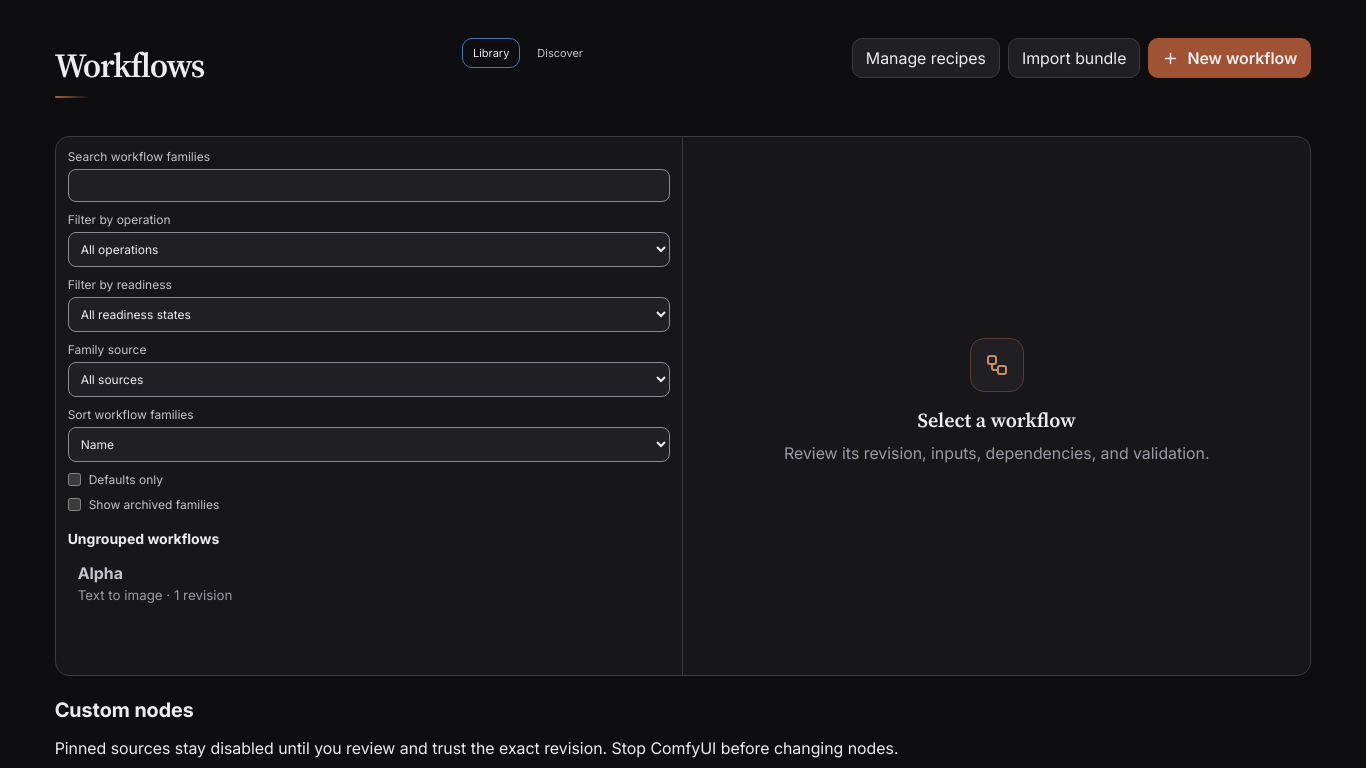
opening a workflow in ComfyUI › does not offer recovery controls while the original consume is running
Click the text "Alpha".
click(100, 573)  # box top-left (78, 563), bottom-right (123, 583)
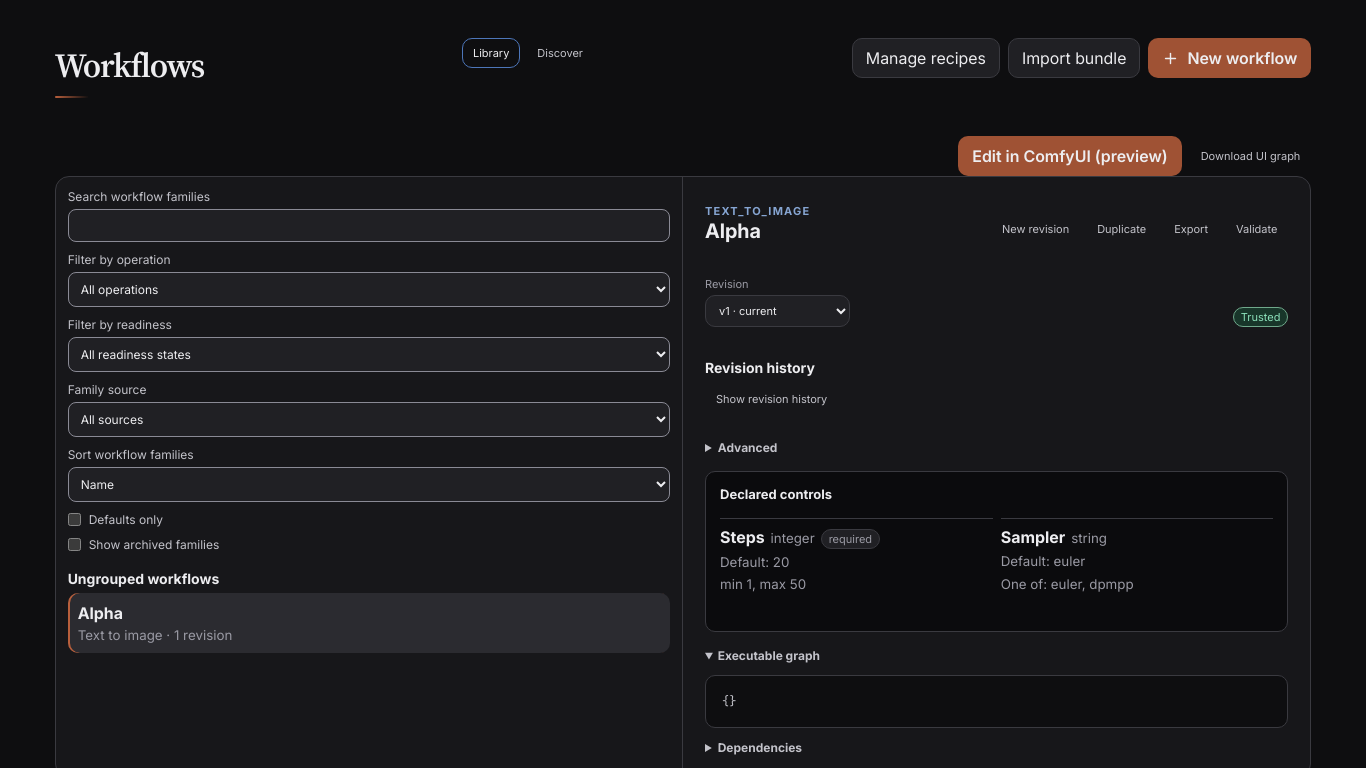
expect the button "New revision" is shown: met, box top-left (991, 214), bottom-right (1080, 244)
Click the button "Edit in ComfyUI (preview)".
click(1070, 156)  # box top-left (958, 136), bottom-right (1182, 176)
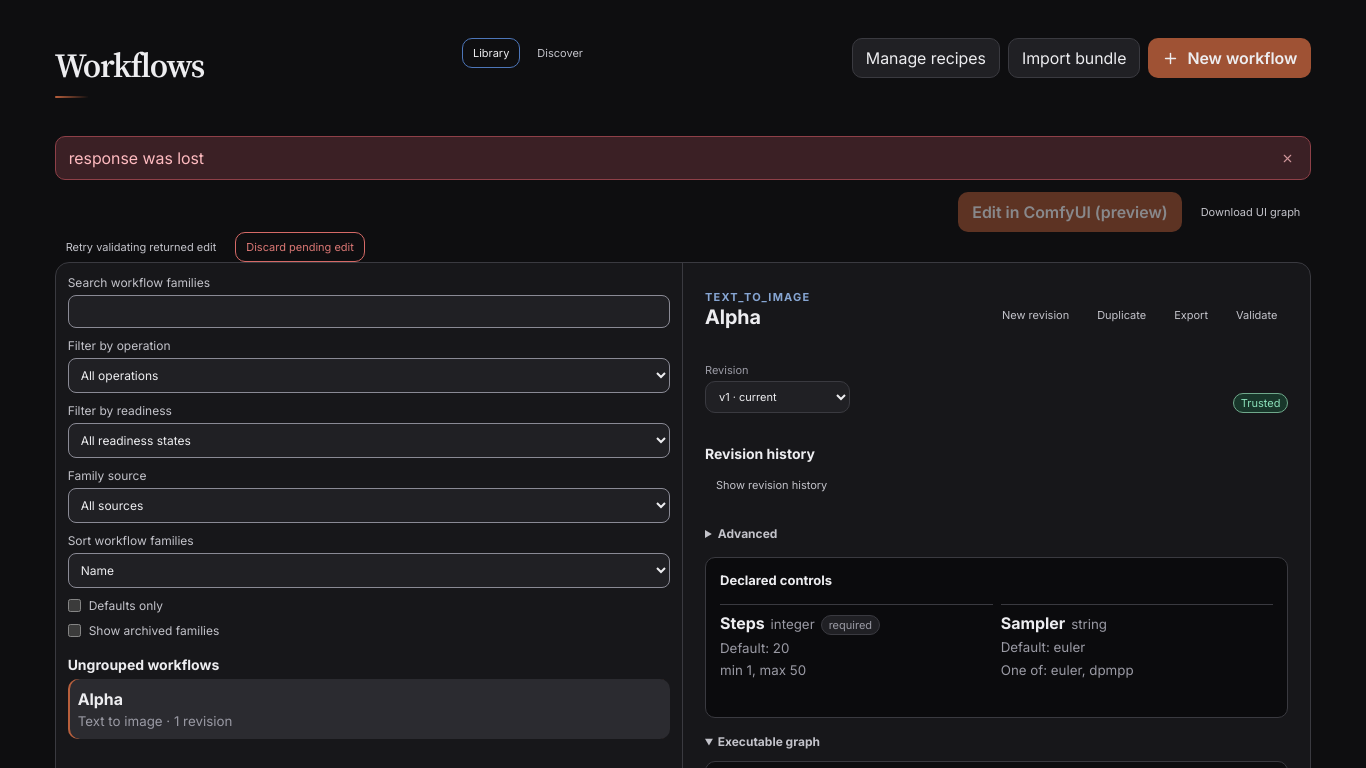
expect the button "Retry validating returned edit" is shown: met, box top-left (55, 232), bottom-right (227, 262)
expect the button "Discard pending edit" is shown: met, box top-left (235, 232), bottom-right (365, 262)
